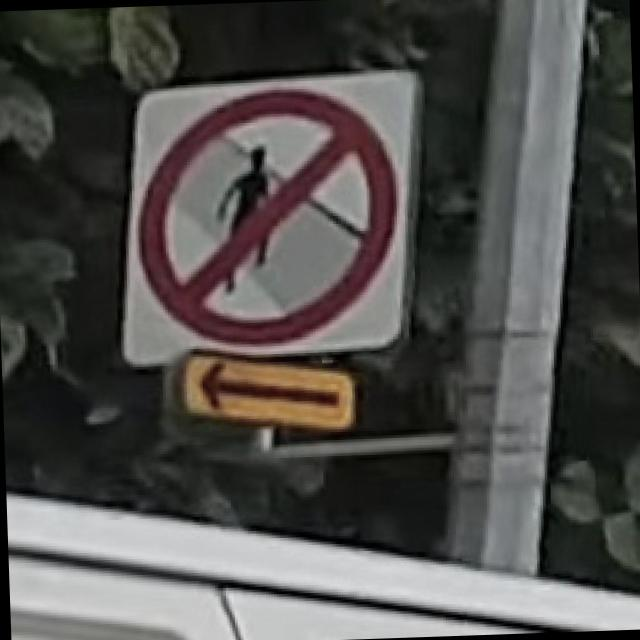nojaywalking_sign: (104, 61, 434, 370)
